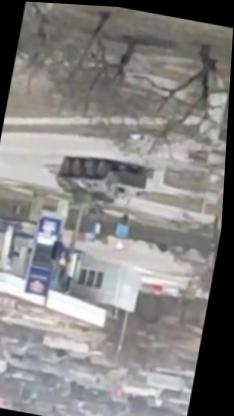tank: (50, 149, 150, 216)
